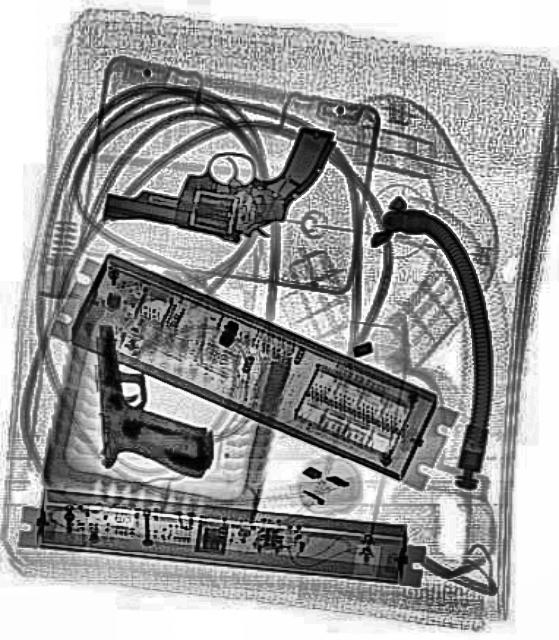Gun: (98, 94, 336, 252), (92, 316, 215, 482)
